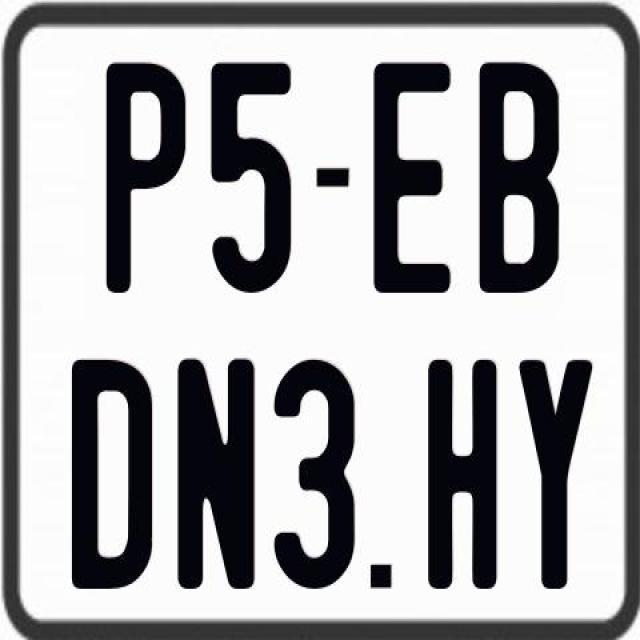3: (270, 355, 350, 587)
5: (209, 58, 292, 298)
B: (478, 63, 566, 300)
D: (70, 360, 150, 589)
E: (369, 61, 447, 293)
H: (428, 355, 500, 584)
N: (176, 358, 261, 597)
P: (105, 59, 187, 293)
Y: (520, 360, 598, 590)
